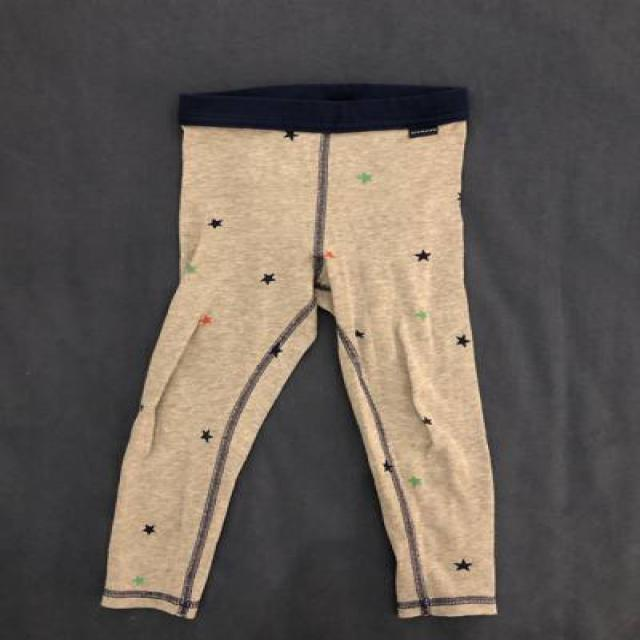Clothes -Biodegradable-: (103, 78, 503, 617)
